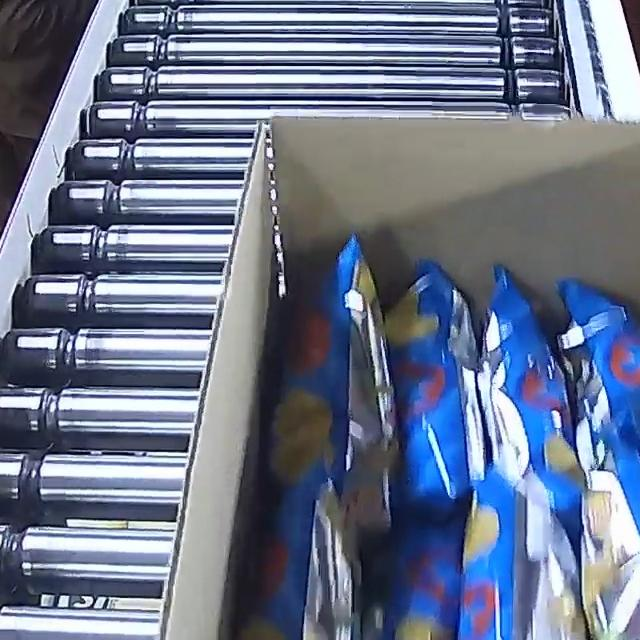paprika: (228, 228, 640, 640)
